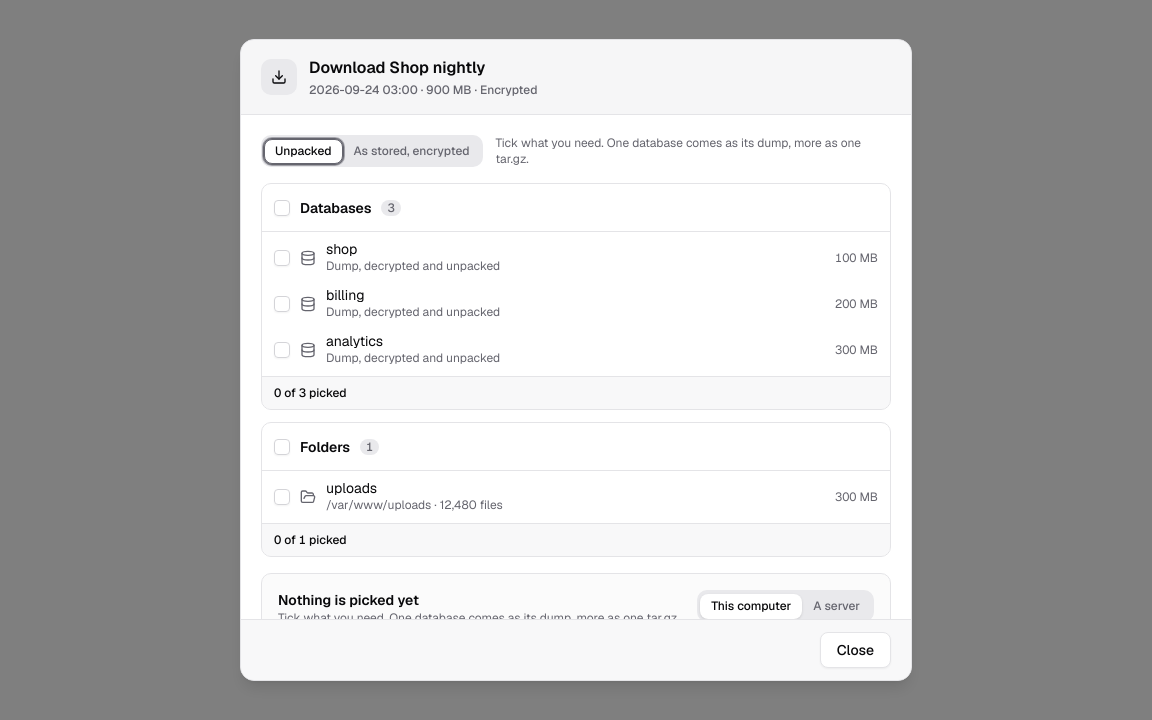
Test: Download dialog › ticks every database from the head of the group
The width and height of the screenshot is (1152, 720).
Click the checkbox named "Pick all databases" at (282, 208), box [274,200,290,216]
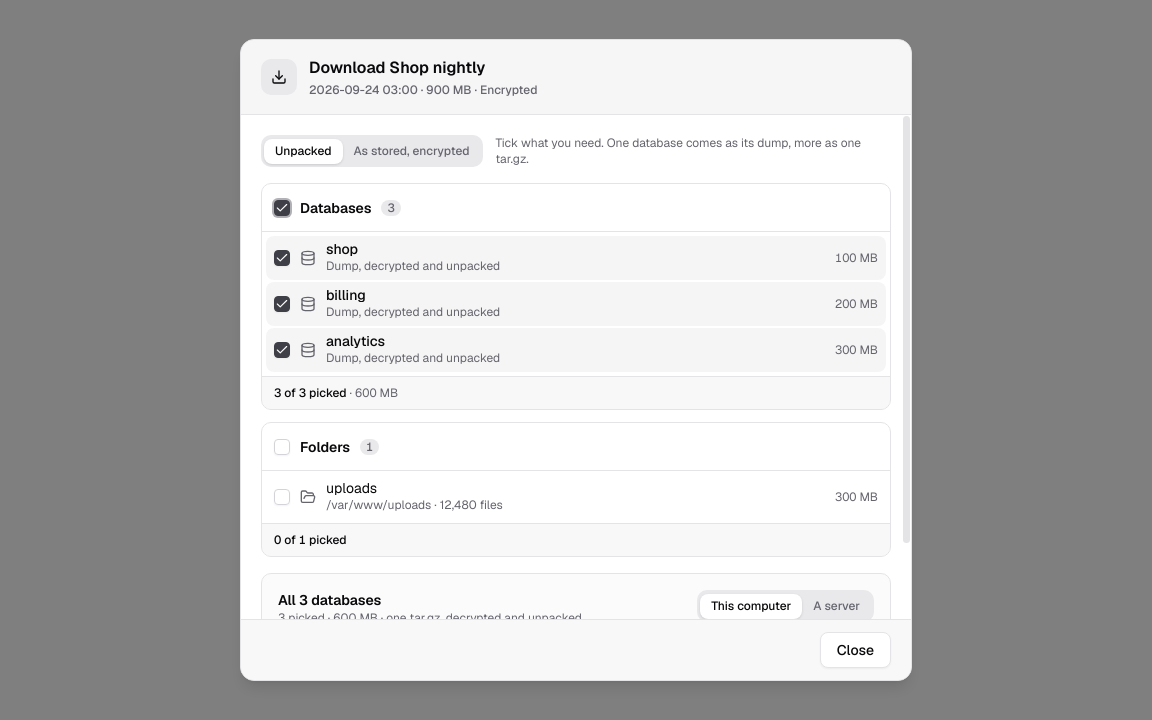
Result: the text "All 3 databases" is shown at [278,591,381,609]
